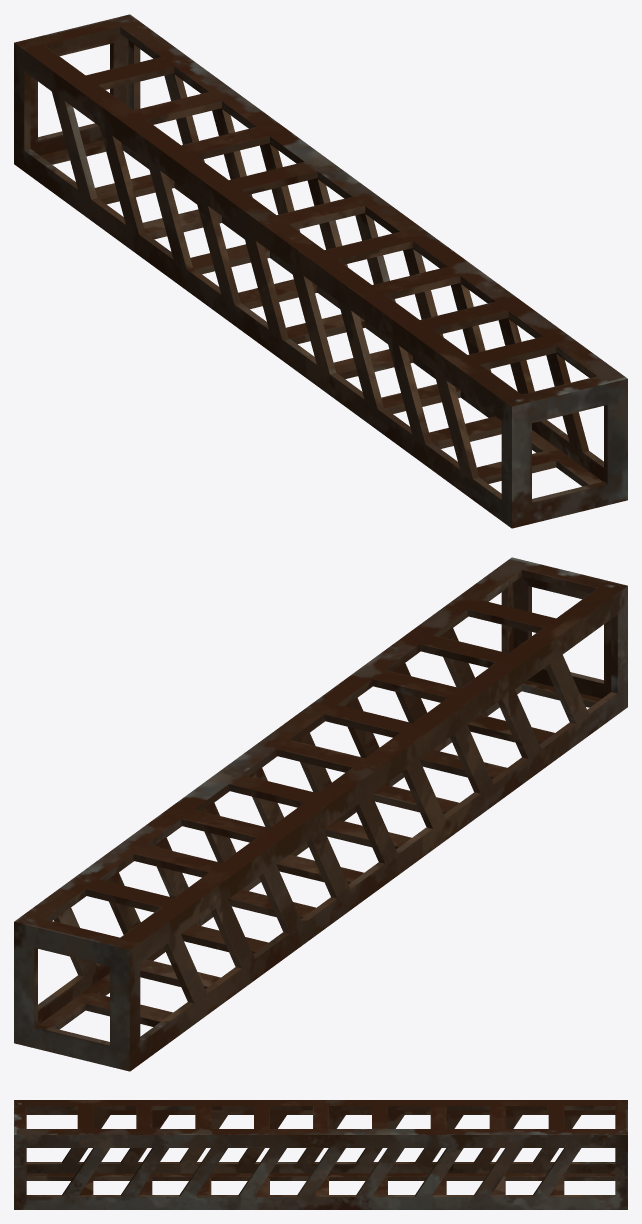
The model's file is OBJ_Podpora_poziom.fbx.
3 renders of one model, top to bottom at view 1: azimuth 30°, elevation 25°; view 2: azimuth 150°, elevation 25°; view 3: azimuth 270°, elevation 25°, orthographic. The views are drawn at different scales.
Visible parts, largest first — view 1: Podpory_poziom; view 2: Podpory_poziom; view 3: Podpory_poziom.
Boxes of the visible parts, x1=… form: Podpory_poziom: x1=14, y1=14, x2=627, y2=528; Podpory_poziom: x1=14, y1=557, x2=627, y2=1071; Podpory_poziom: x1=14, y1=1100, x2=627, y2=1209.
Size of the model in its own units: 0.5391 by 4 by 0.5391.
